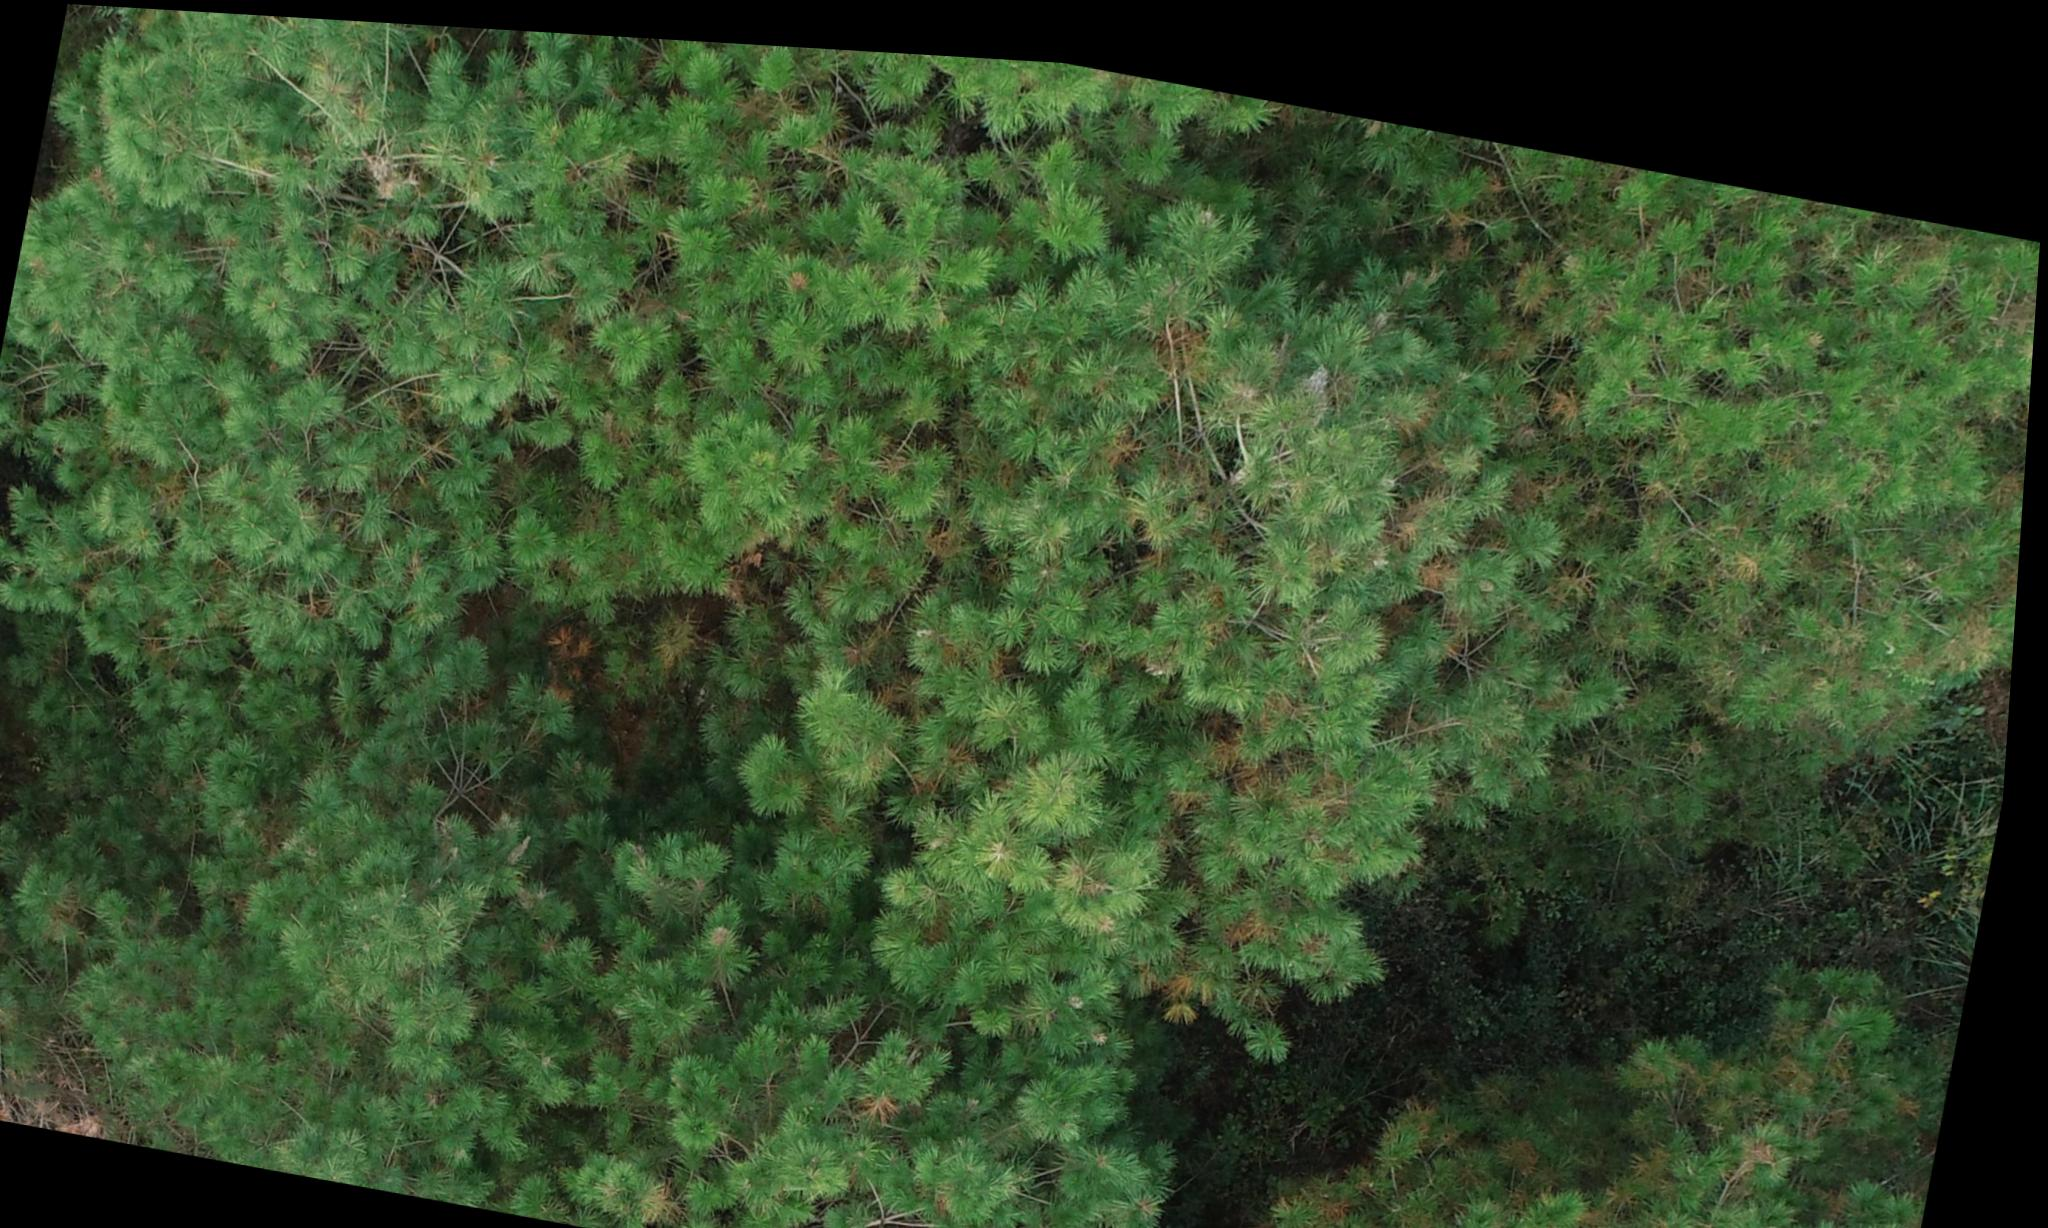light: (792, 145, 1763, 1120)
